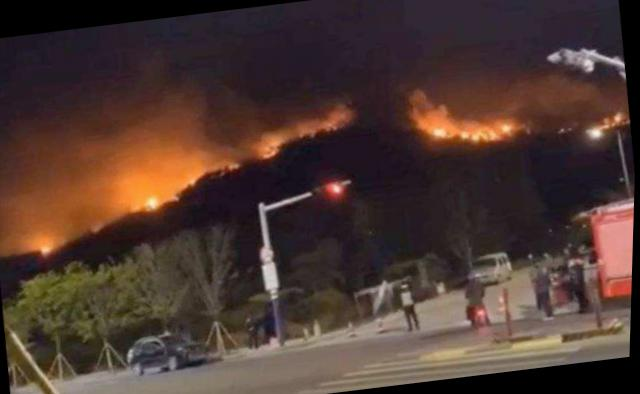fire: (1, 104, 360, 260), (417, 82, 536, 142)
